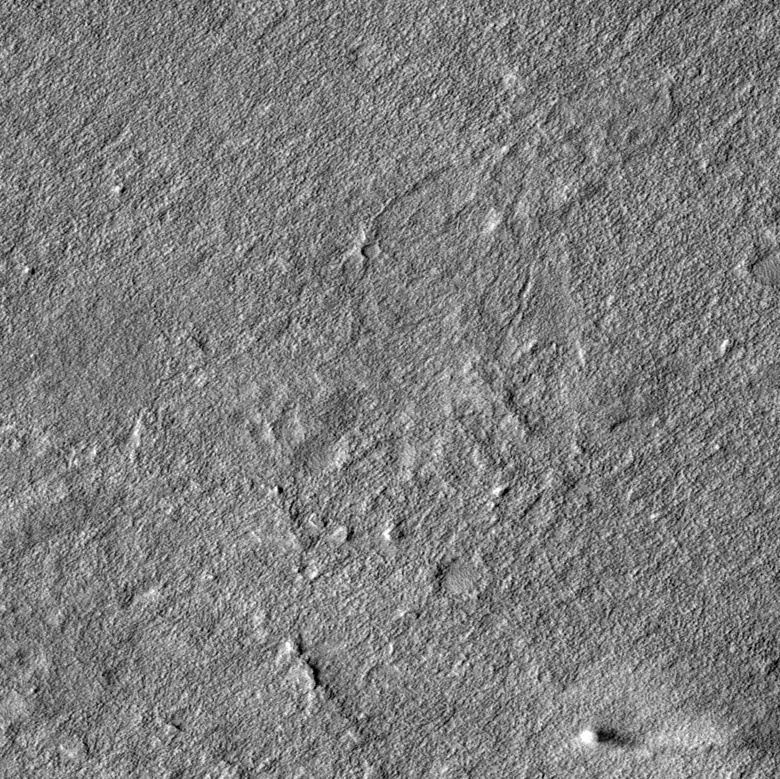dust_devil: (579, 726, 649, 749)
